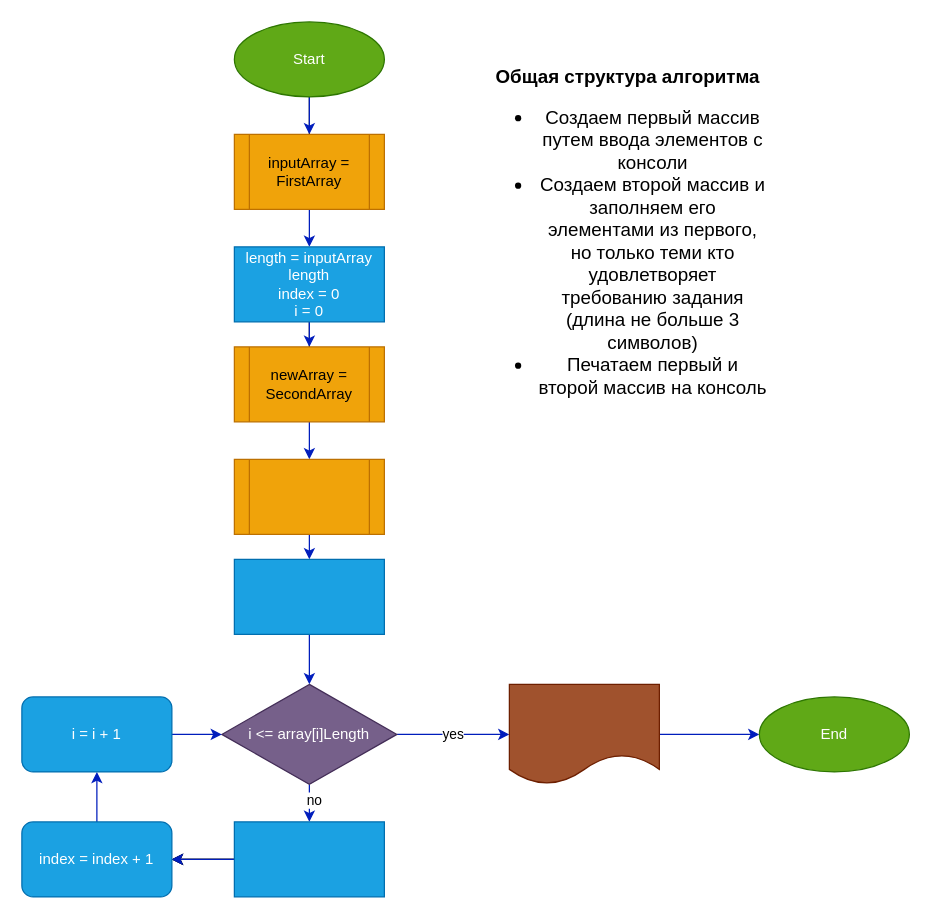
Image size: 931x919. Some labels were removed from this diagram. Here are the shapes that lost their labels. From the top down, the centre of each, then its label:
At pixel 308 496: "fillNewArray = FillArray".
At pixel 308 596: "index = 0 i = 0 array[i]Length <=3".
At pixel 583 733: "Print inputArray Print newArray".
At pixel 308 859: "fillNewArray [index] = array [i]".
